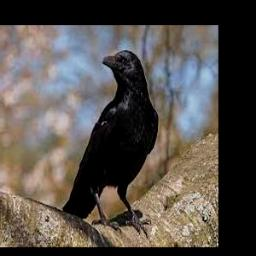Crow: (62, 50, 159, 234)
